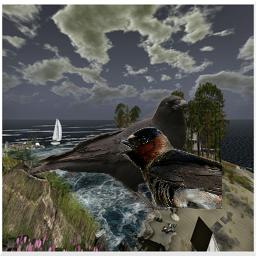Crow: (27, 95, 188, 212)
Swallow: (116, 127, 222, 210)
